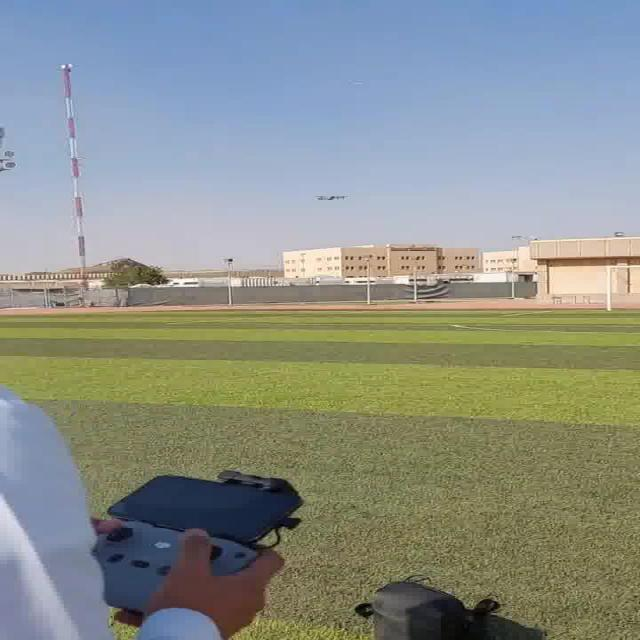drone: (311, 184, 364, 202)
